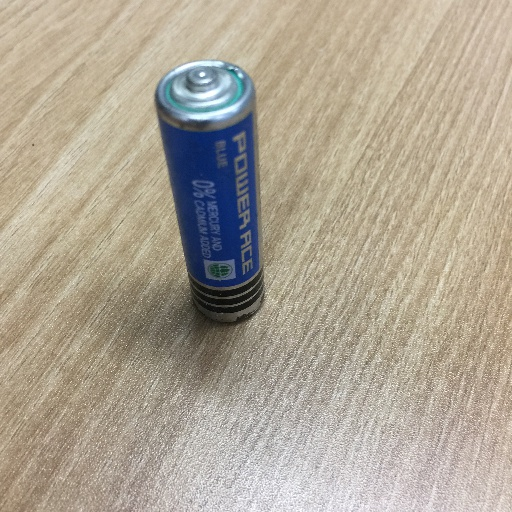Battery_0: (149, 45, 283, 340)
